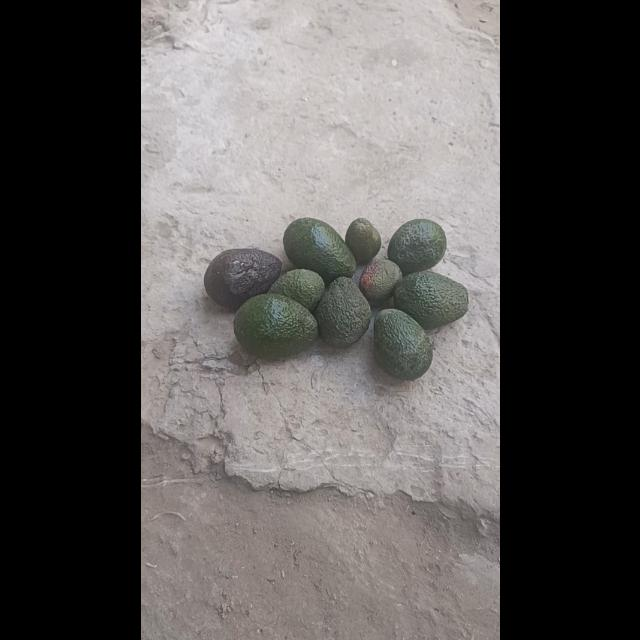Primera: (232, 292, 318, 360), (204, 248, 282, 310), (282, 218, 356, 280), (392, 270, 468, 328), (371, 307, 431, 379), (314, 276, 372, 348)
Segunda: (386, 219, 446, 275), (268, 267, 324, 313)
Tercera: (358, 257, 402, 305), (343, 217, 381, 263)
